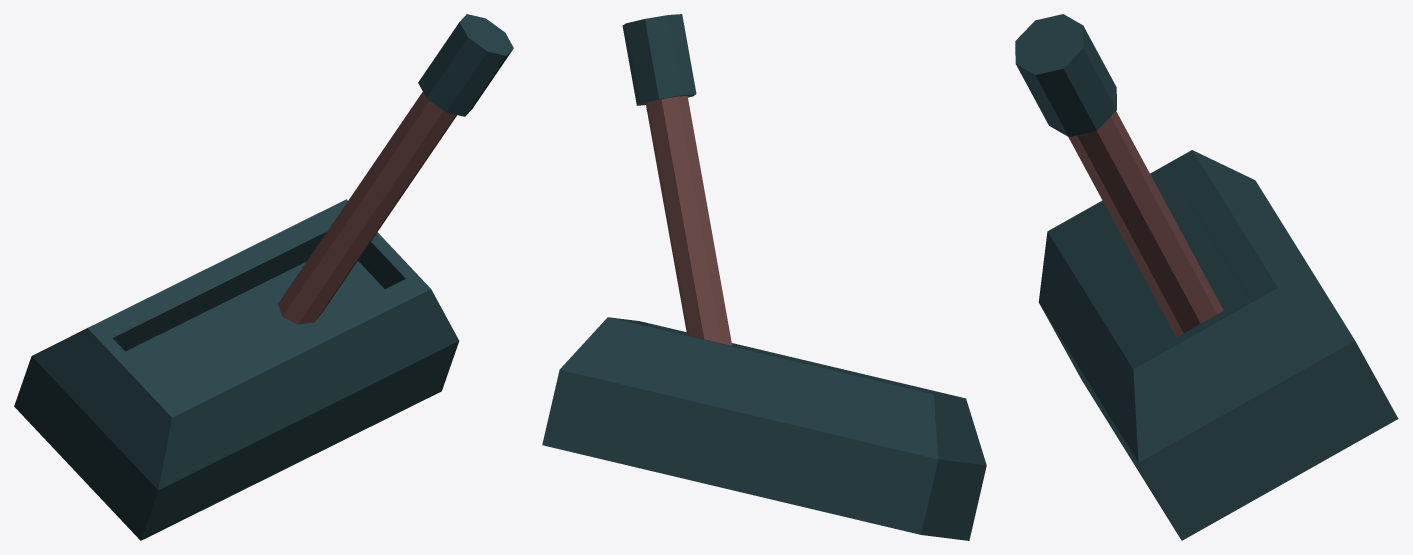
Rendered from Palancacolor.fbx.
3 views of the same model, side by side, from view 1: azimuth 30°, elevation 25°; view 2: azimuth 150°, elevation 25°; view 3: azimuth 270°, elevation 25° (orthographic). The views are drawn at different scales.
Parts seen in each view (by area): view 1: Palancacolor; view 2: Palancacolor; view 3: Palancacolor.
Part boxes in pixels (x1,y1,x2,y2): Palancacolor: (14, 14, 513, 540); Palancacolor: (542, 14, 986, 540); Palancacolor: (1015, 14, 1398, 540).
Size of the model in its own units: 15.49 by 10.5 by 16.77.
